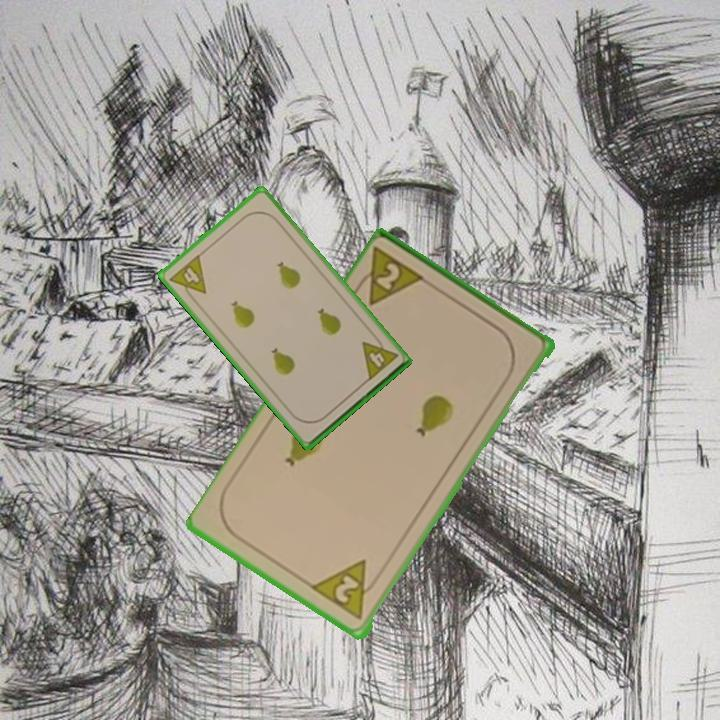2p: (349, 245, 430, 310), (310, 556, 384, 624)
4p: (166, 251, 209, 305), (358, 330, 401, 384)
